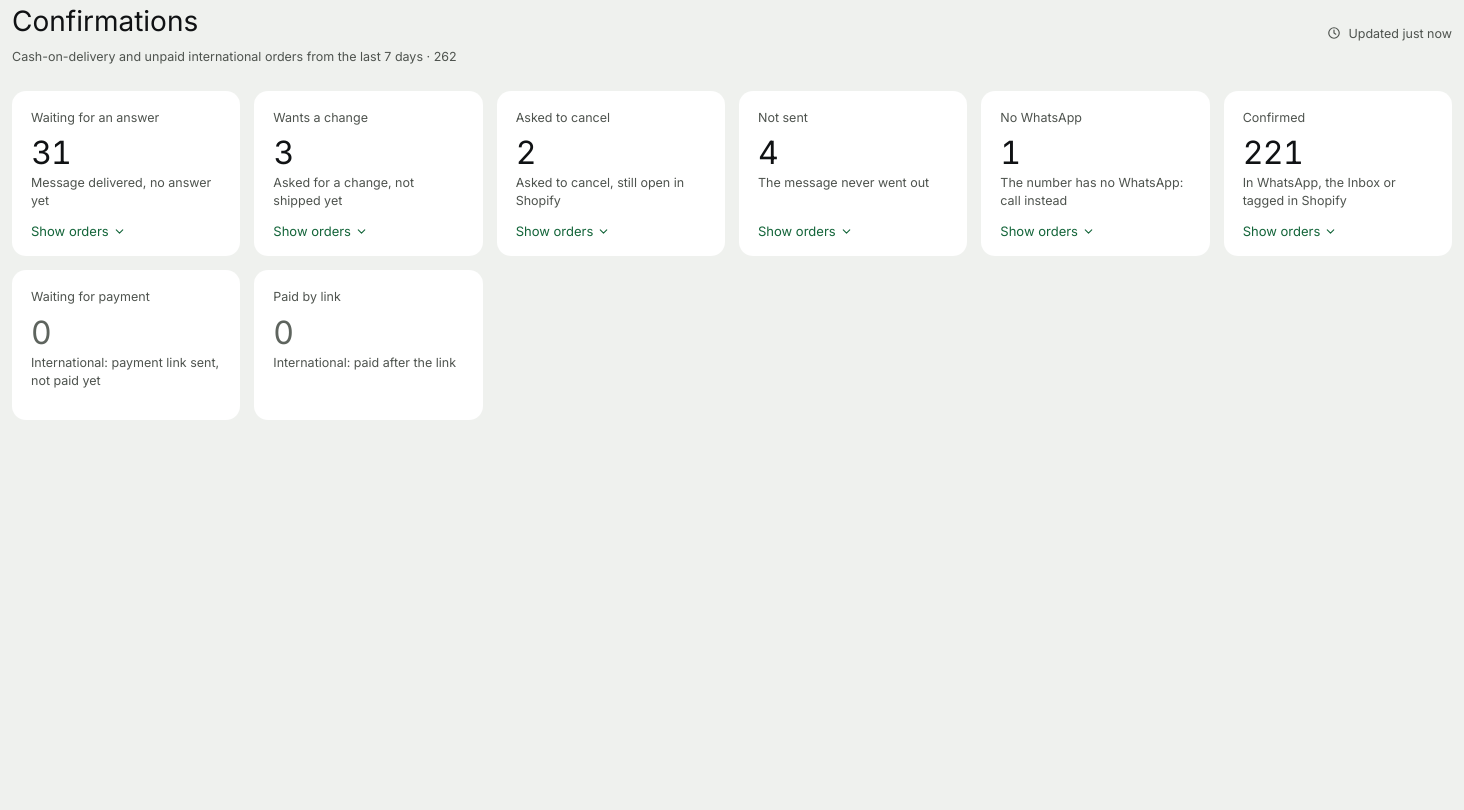
Test case: Inbox → Confirmations (ADR 0059) › shows the server's reason when an order may not be sent again
The image size is (1464, 810).
Click the button "Not sent 4 The message never went out Show orders": (853, 174) [739,91,967,256]
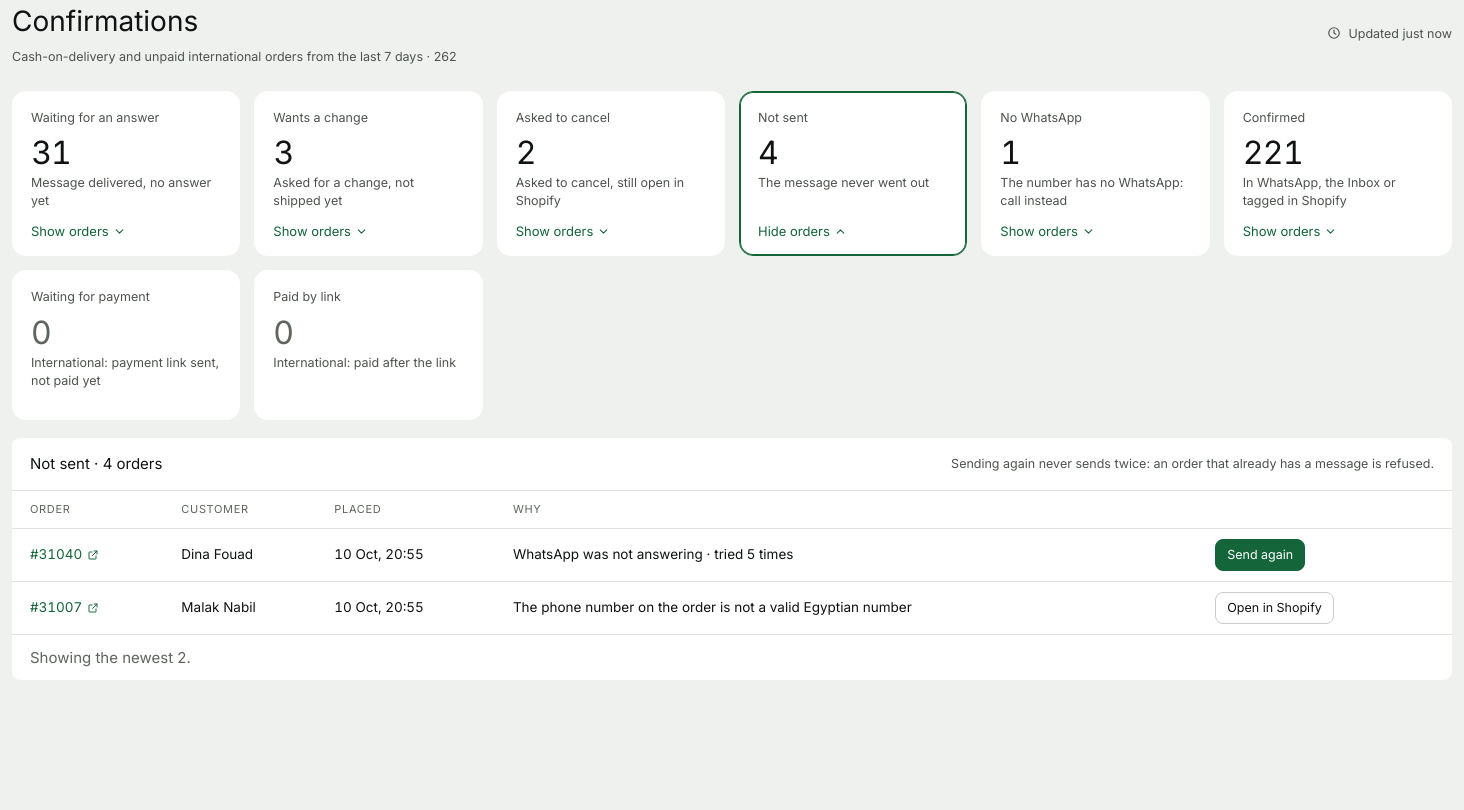
Click the button "Send again": (1260, 555) [1215,539,1305,571]
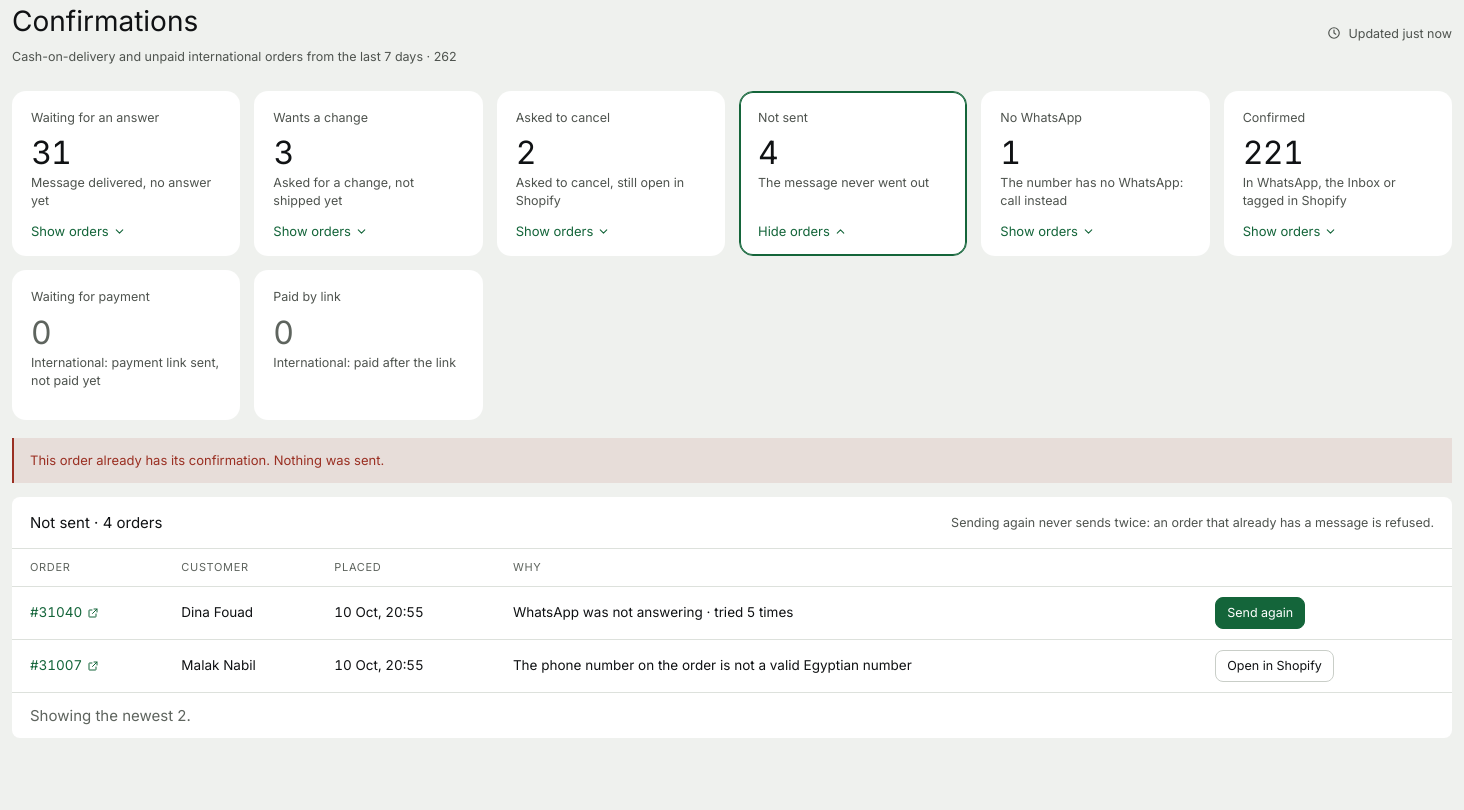
Now the message reads "This order already has its confirmation. Nothing was sent.", box [30,452,384,468]
